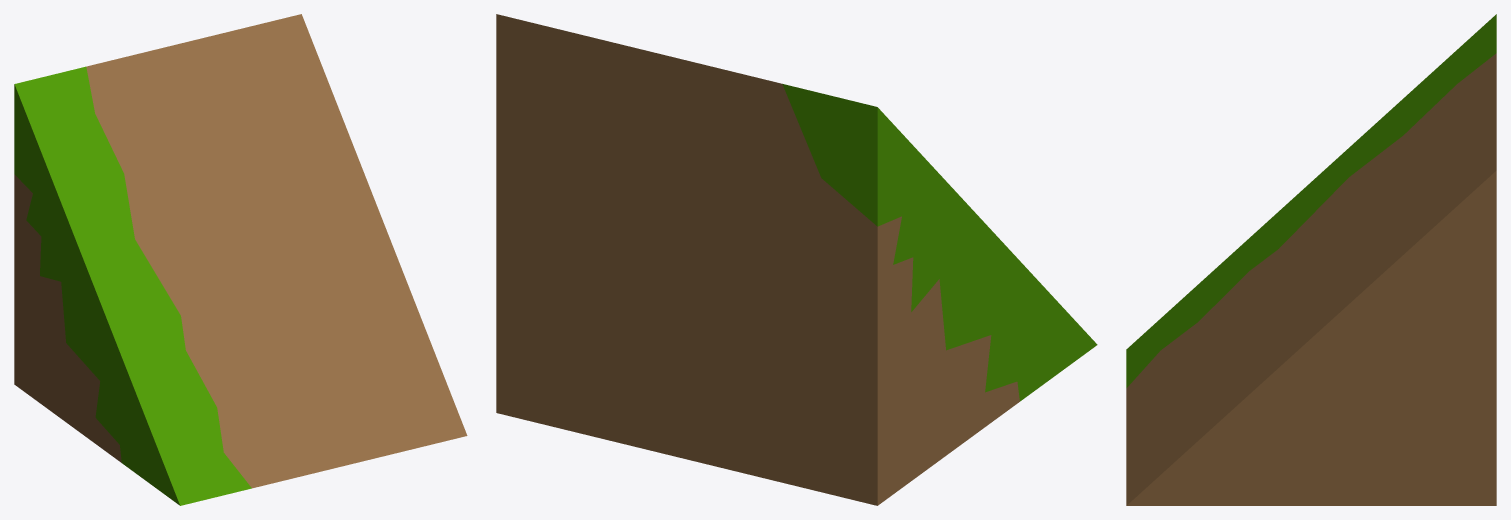
Rendered from RPG_Tiles_Square_Covered_Path_Edge_Left_Ramp_01.FBX.
3 renders of one model, left to right at view 1: azimuth 30°, elevation 25°; view 2: azimuth 150°, elevation 25°; view 3: azimuth 270°, elevation 25°, orthographic. The views are drawn at different scales.
Visible parts, largest first — view 1: RPG_Tiles_Square_Covered_Path_Edge_Left_Ramp_01; view 2: RPG_Tiles_Square_Covered_Path_Edge_Left_Ramp_01; view 3: RPG_Tiles_Square_Covered_Path_Edge_Left_Ramp_01.
Boxes of the visible parts, x1,y1,x2,y2 form: RPG_Tiles_Square_Covered_Path_Edge_Left_Ramp_01: (14,14,467,505); RPG_Tiles_Square_Covered_Path_Edge_Left_Ramp_01: (496,14,1097,505); RPG_Tiles_Square_Covered_Path_Edge_Left_Ramp_01: (1126,14,1496,505).
Size of the model in its own units: 3000 by 3000 by 3000.
